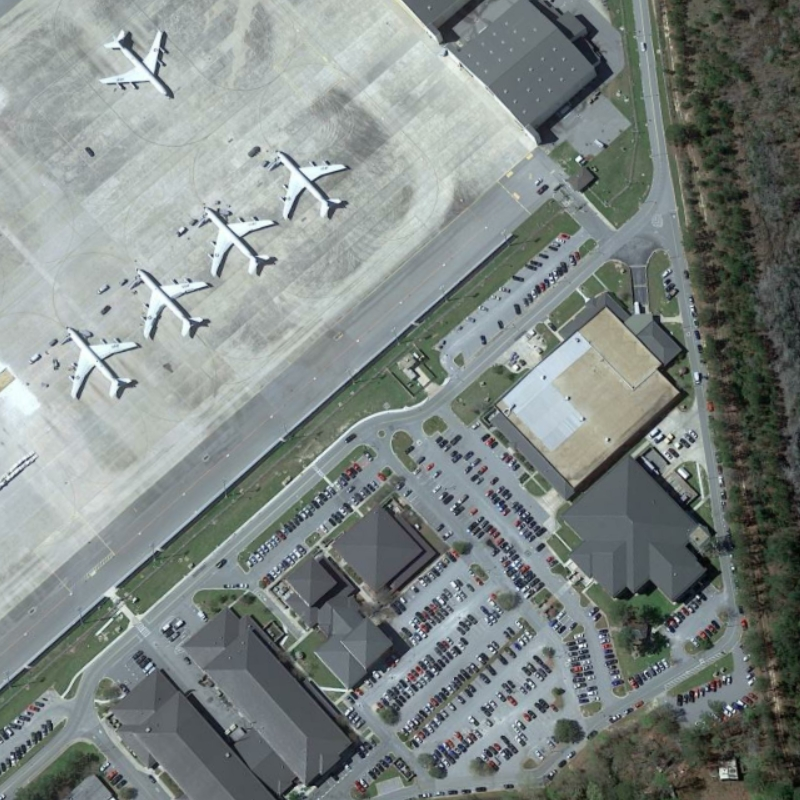A11: (62, 323, 142, 404), (96, 24, 175, 104), (135, 263, 213, 343), (273, 146, 351, 224), (199, 205, 279, 281)
